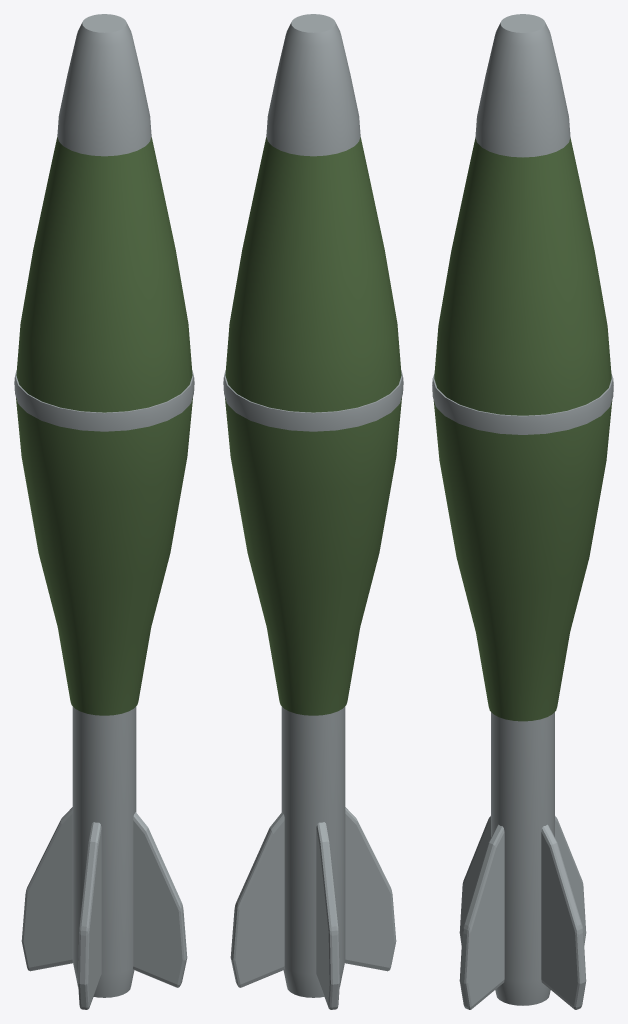
The model's file is toy_round.glb.
The picture shows the model from 3 angles, left to right: view 1: azimuth 30°, elevation 25°; view 2: azimuth 150°, elevation 25°; view 3: azimuth 270°, elevation 25°; orthographic projection.
Visible parts, largest first — view 1: Plastic Rain | Olive and Gray Round; view 2: Plastic Rain | Olive and Gray Round; view 3: Plastic Rain | Olive and Gray Round.
Boxes of the visible parts, bbox=[...] form: Plastic Rain | Olive and Gray Round: bbox=[14, 14, 194, 1009]; Plastic Rain | Olive and Gray Round: bbox=[223, 14, 403, 1009]; Plastic Rain | Olive and Gray Round: bbox=[432, 14, 613, 1009].
Bounding box in the file's own units: 0.0848 × 0.5 × 0.0848.
